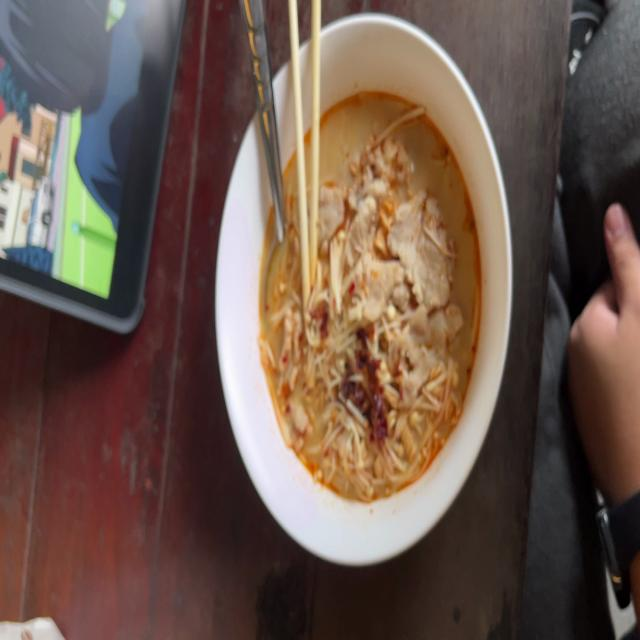noodle: (250, 70, 488, 524)
